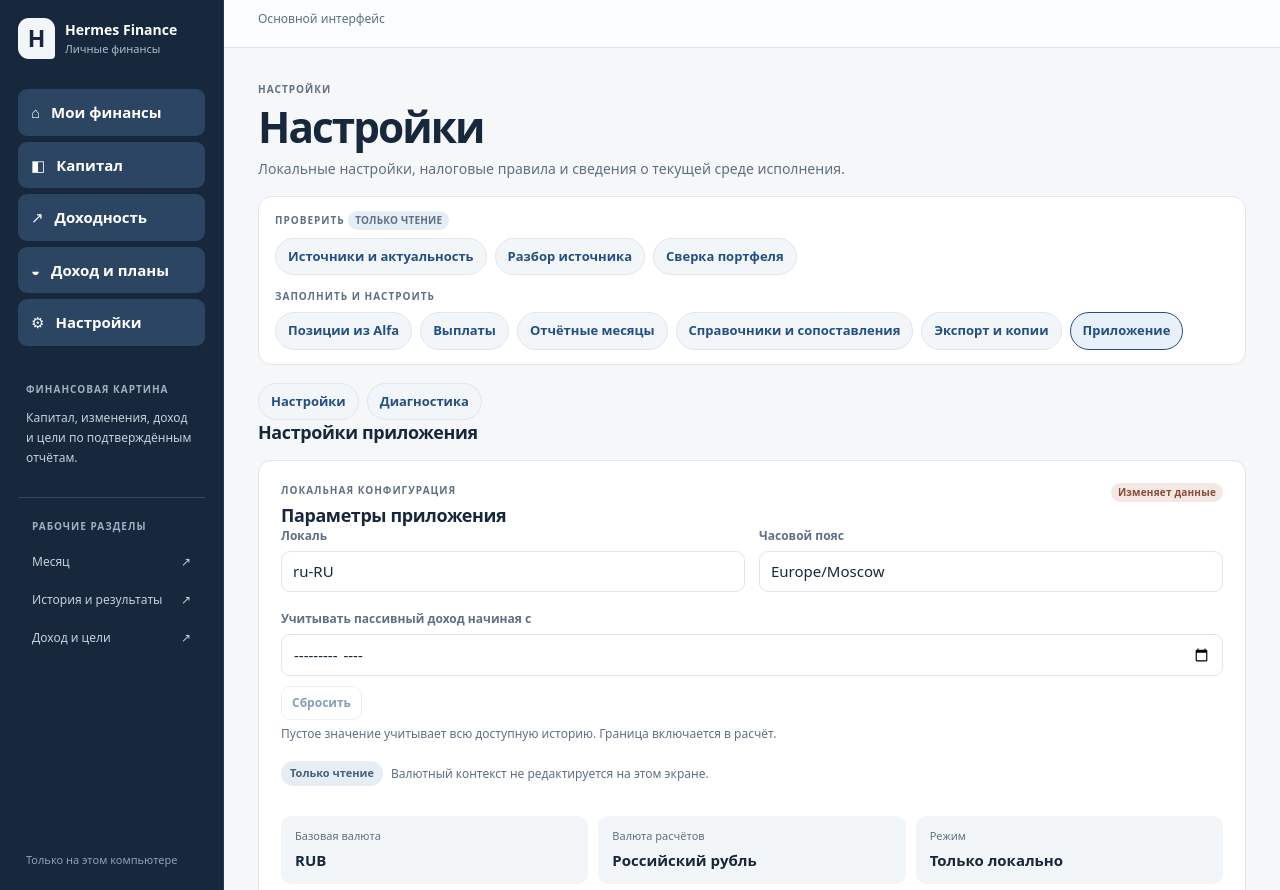
Test: UI v2 Data/App › blocks invalid settings before PUT
This screenshot has width=1280, height=890.
Replace the text in the field labelled "Локаль" with "x" at coordinates (513, 572), box [281,552,745,592]
(page scrolled)
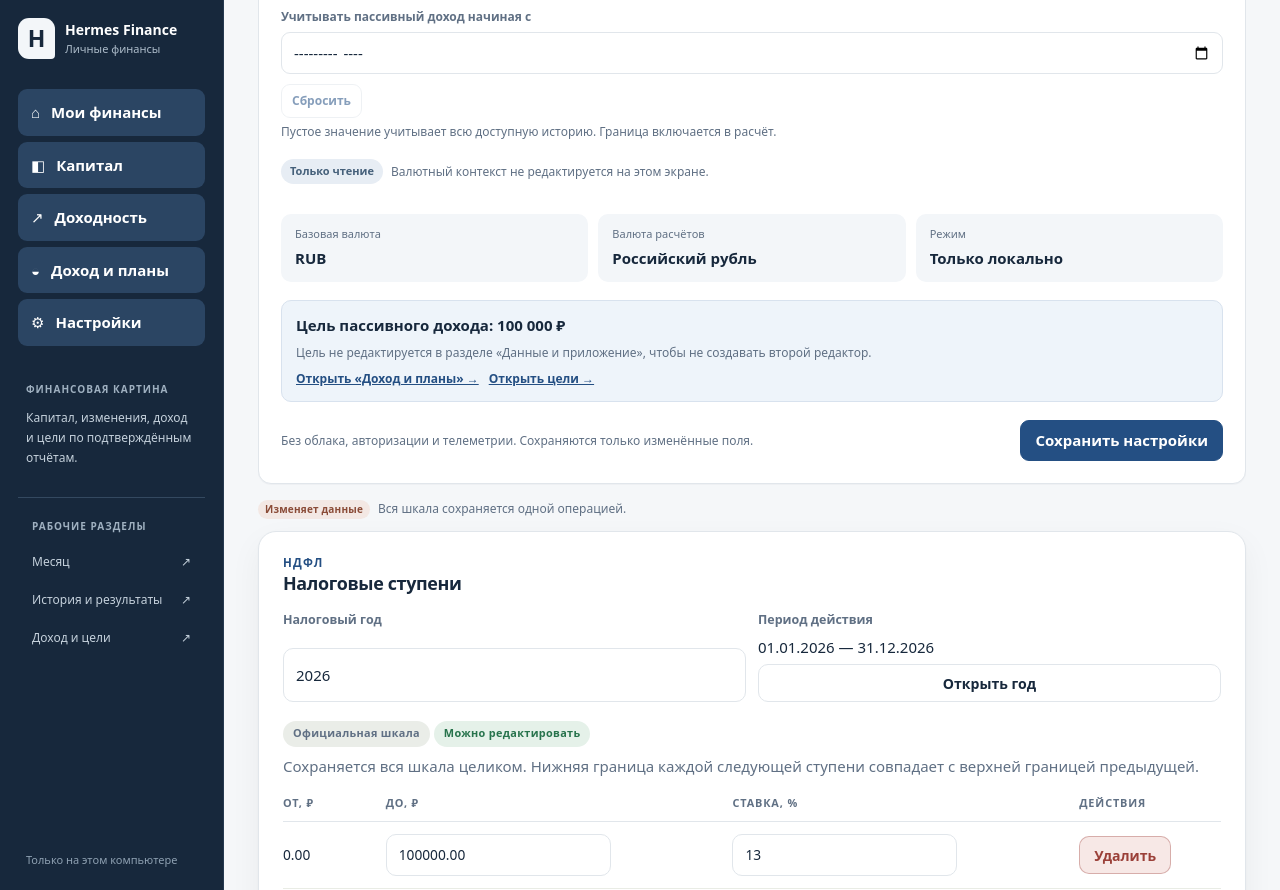
Click the button "Сохранить настройки" at coordinates (1122, 441), box [1020,420,1223,461]
(page scrolled)
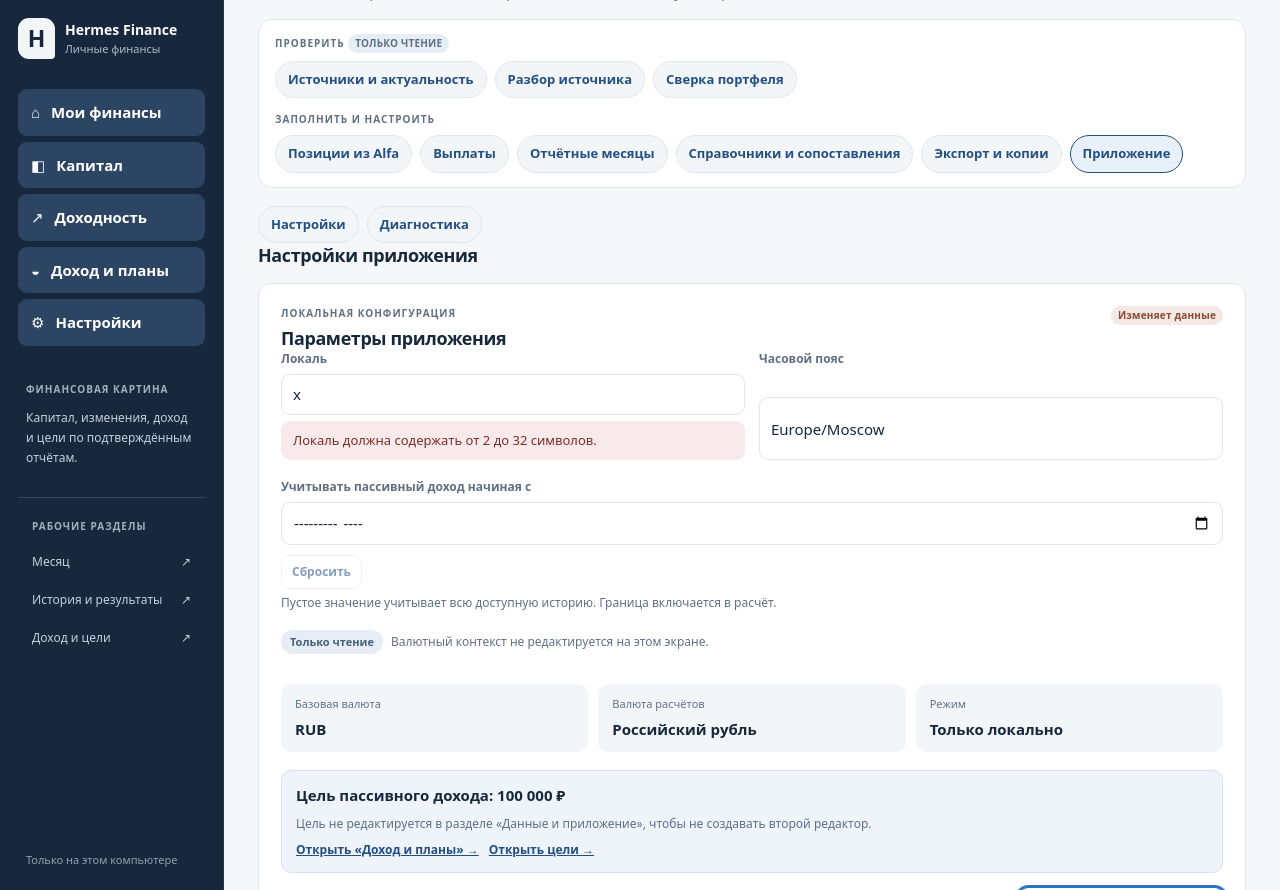
Check: the text "Локаль должна содержать от 2 до 32 символов." is shown, box [281,421,745,460]
